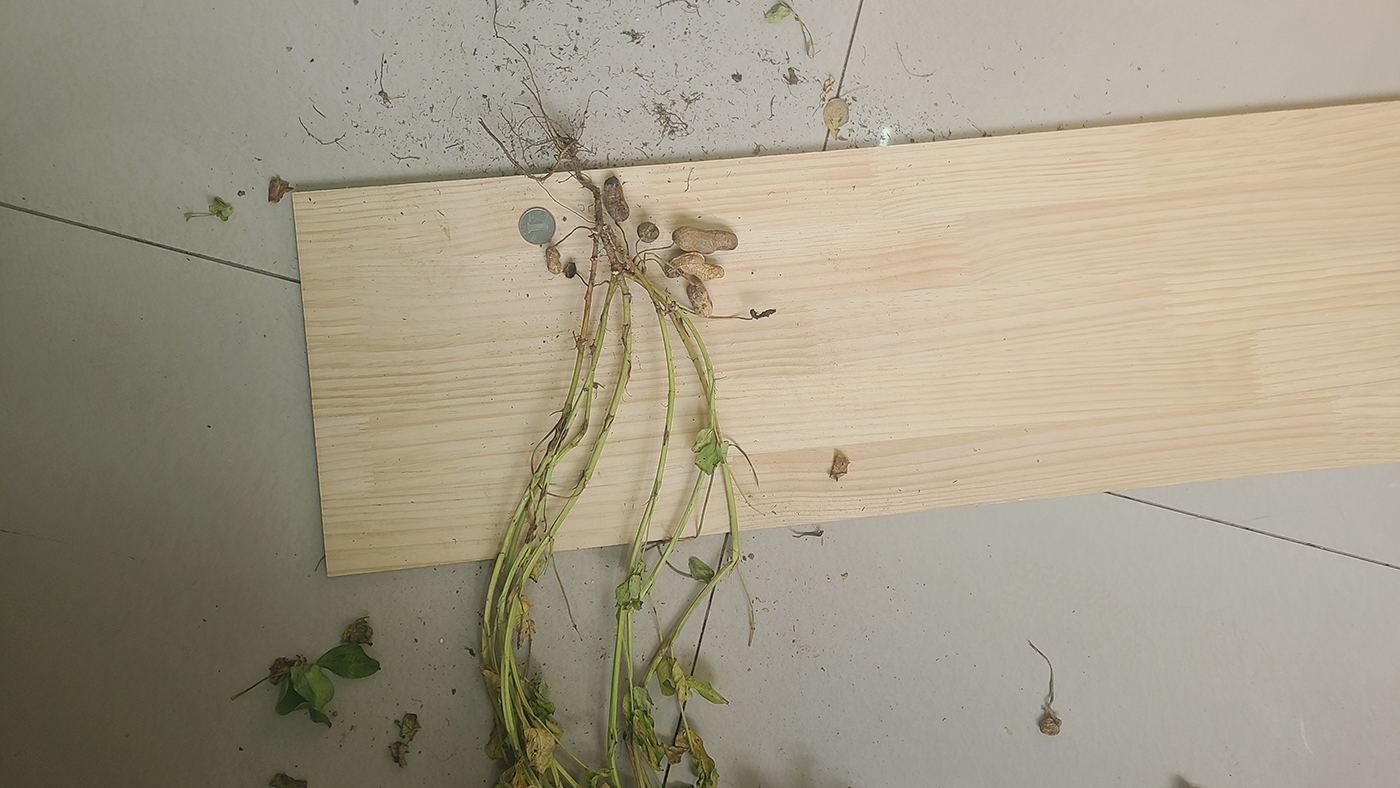h: (673, 227, 739, 252), (669, 252, 725, 277), (686, 282, 716, 317)
l: (604, 177, 630, 222), (545, 247, 563, 275), (637, 221, 660, 242), (566, 260, 579, 278)
